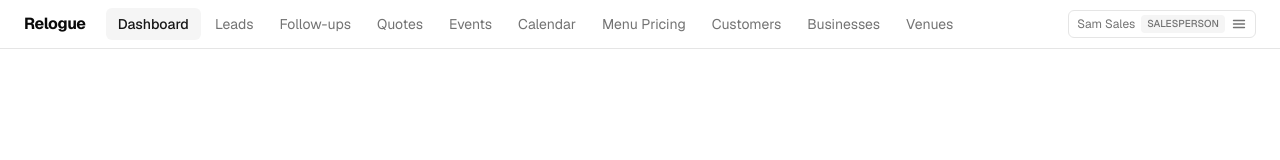
Scenario: TopNav account menu › a salesperson gets no admin links, only sign out
The width and height of the screenshot is (1280, 160).
Click the button with aria-label "account and admin menu" at (1162, 24), box [1068,10,1256,38]
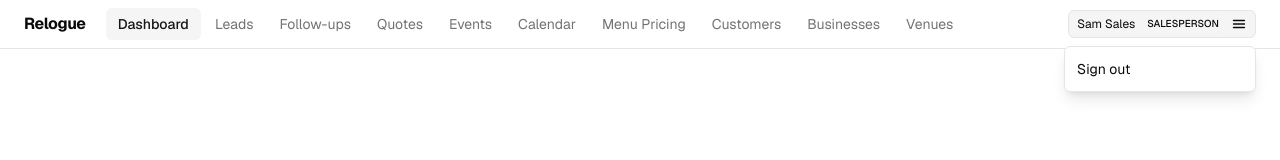
Result: the menu reads "Sign out" at [1065,51,1255,87]
